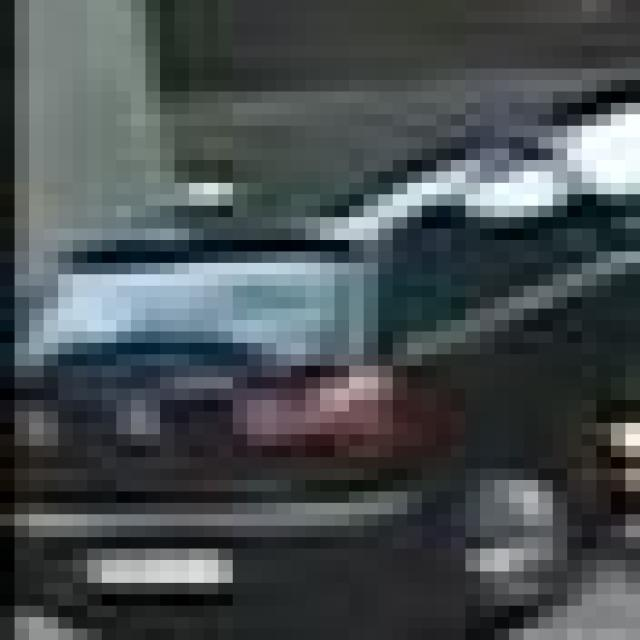Car: (0, 159, 636, 634)
